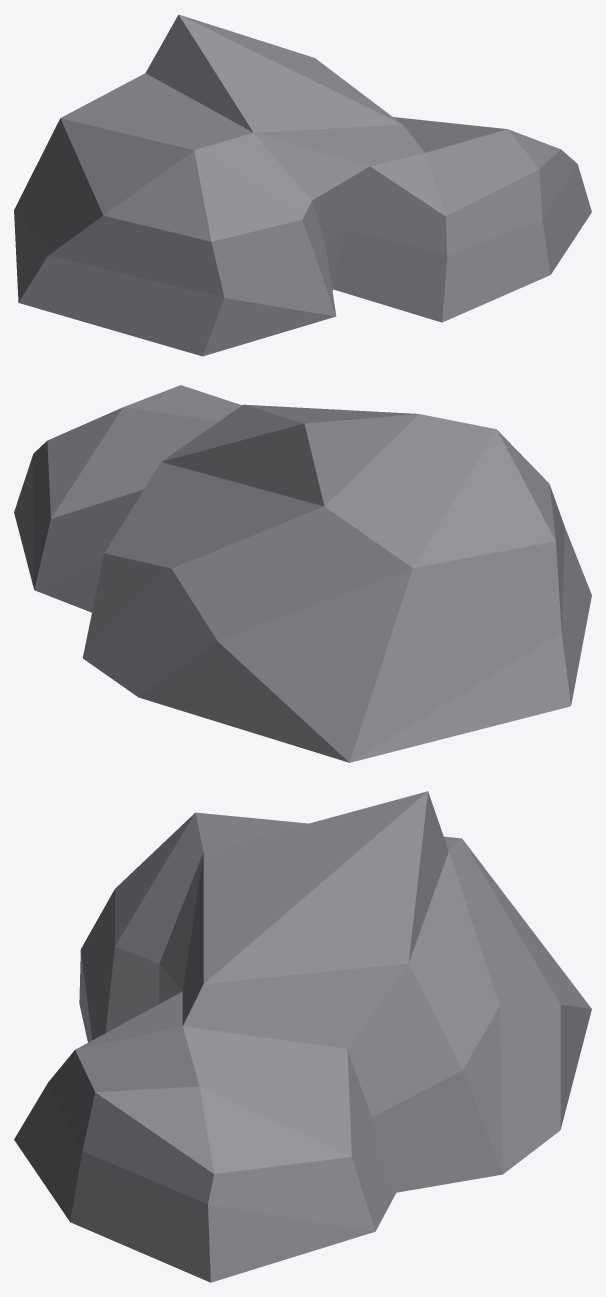
Rendered from stone_3.obj.
3 renders of one model, top to bottom at view 1: azimuth 30°, elevation 25°; view 2: azimuth 150°, elevation 25°; view 3: azimuth 270°, elevation 25°, orthographic. The views are drawn at different scales.
Parts seen in each view (by area): view 1: stone_3_Cube.008; view 2: stone_3_Cube.008; view 3: stone_3_Cube.008.
Boxes of the visible parts, x1,y1,x2,y2 form: stone_3_Cube.008: (14,14,591,356); stone_3_Cube.008: (14,385,591,762); stone_3_Cube.008: (14,791,591,1282).
Bounding box in the file's own units: 2.43 × 0.9635 × 1.79.
